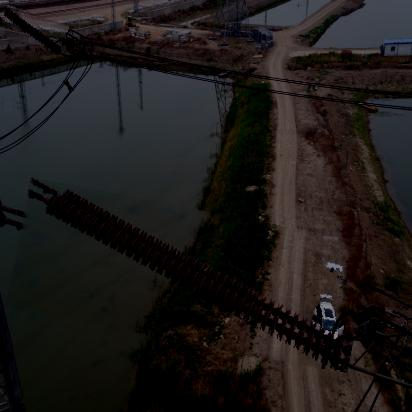insulator: (12, 195, 369, 359), (1, 11, 68, 52)
